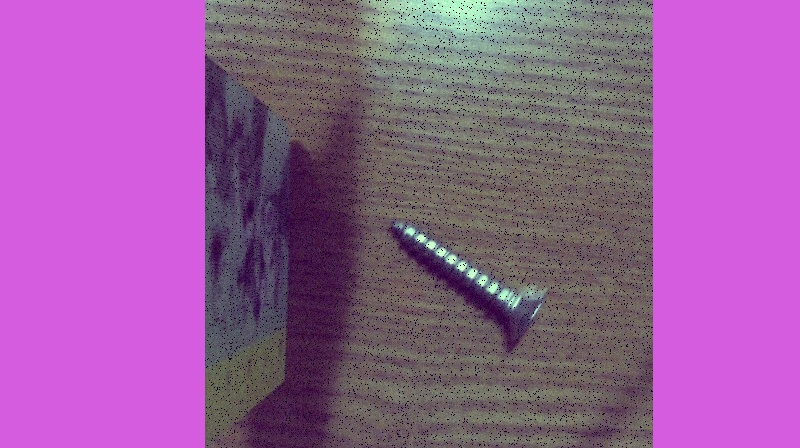S001: (381, 216, 553, 357)
